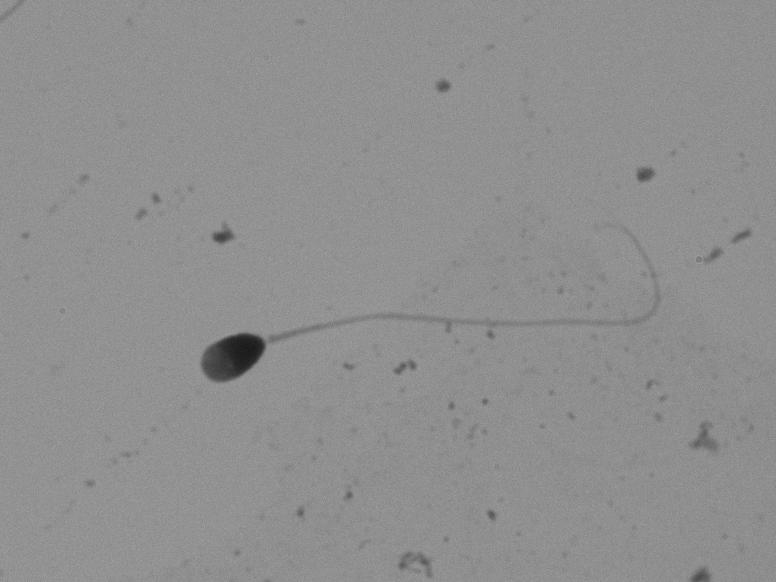Normal: (153, 207, 667, 423)
